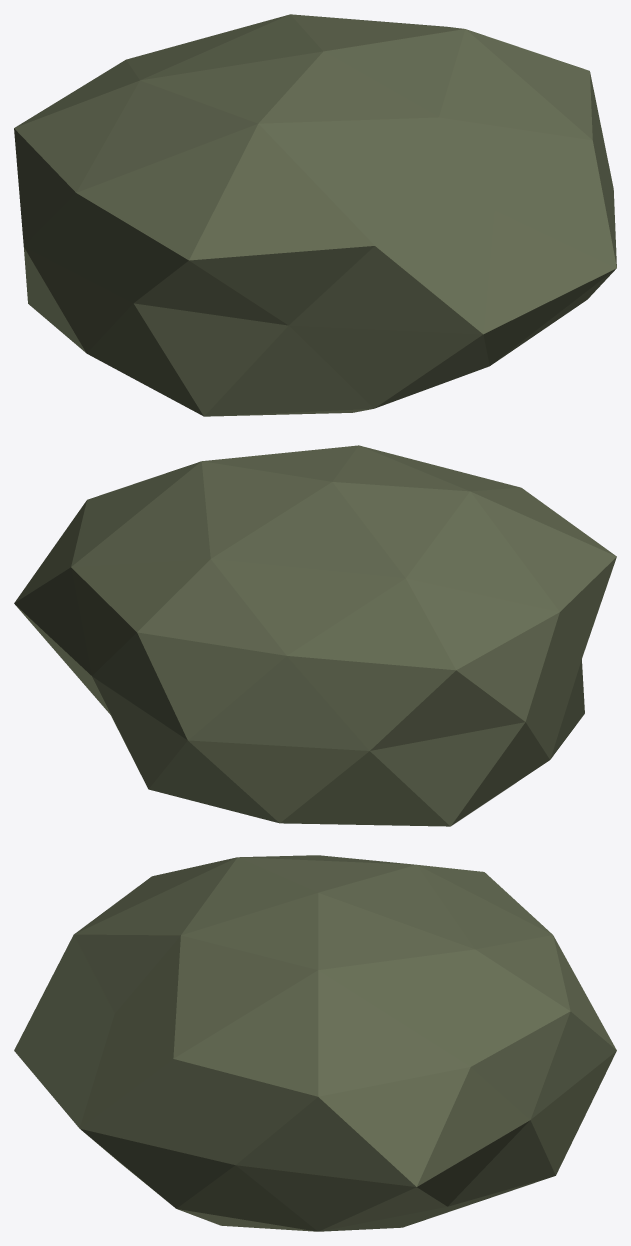
File: stoneInstances.obj
The picture shows the model from 3 angles, top to bottom: view 1: azimuth 30°, elevation 25°; view 2: azimuth 150°, elevation 25°; view 3: azimuth 270°, elevation 25°; orthographic projection. The views are drawn at different scales.
Visible parts, largest first — view 1: stoneInstances; view 2: stoneInstances; view 3: stoneInstances.
Boxes of the visible parts, x1,y1,x2,y2 form: stoneInstances: (14,14,616,416); stoneInstances: (14,445,616,826); stoneInstances: (14,855,616,1231).
Bounding box in the file's own units: 1.9 × 1 × 1.9.
Materials: 1 (1 with a texture image).
